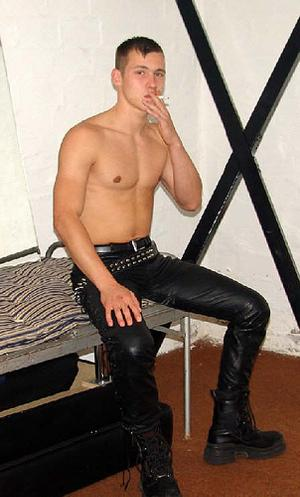person: (52, 35, 288, 495)
